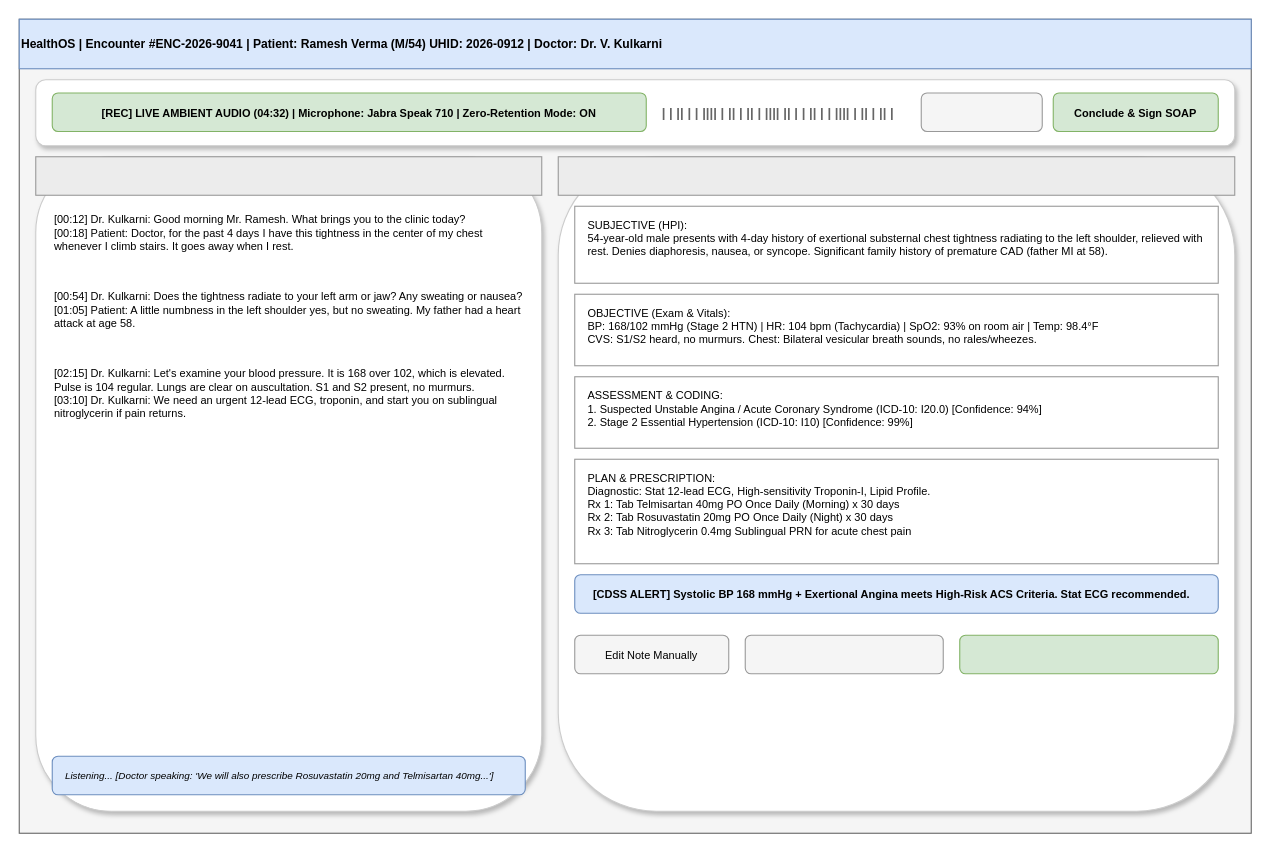
This 1271x853 diagram has some shape labels left out. Here are the shapes that lost their labels. From the top down, the centre of each, then its label:
(x=981, y=111): Pause Audio
(x=288, y=175): Live Streaming Dialogue (Deepgram Nova-2 Medical)
(x=896, y=175): Real-Time Structured Clinical Note (SOAP) [AI Auto-Synthesizing...]
(x=843, y=654): Push to External EHR (FHIR)
(x=1088, y=654): Electronically Sign & Send to Billing
